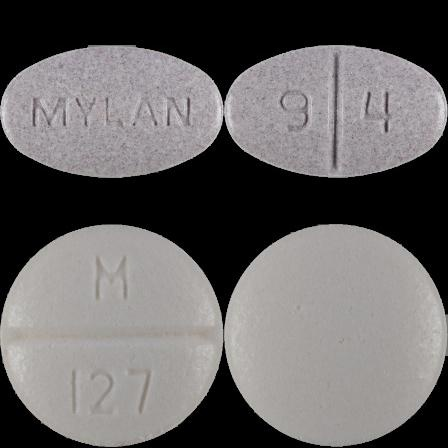0378-0094: (0, 0, 224, 224)
